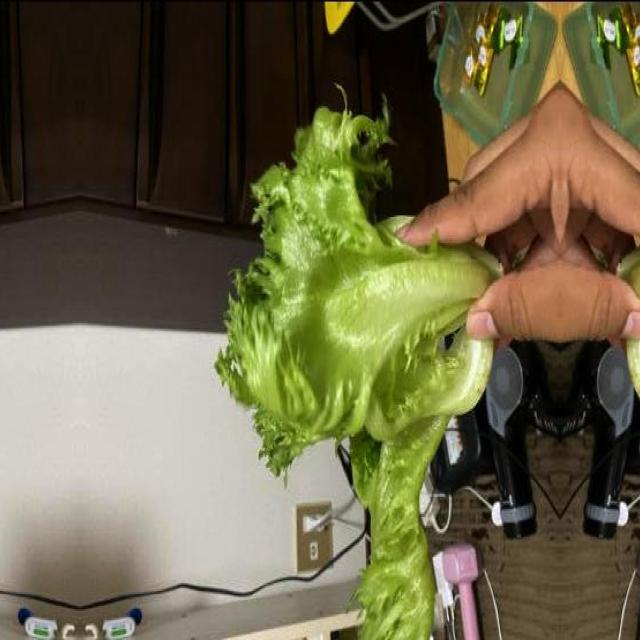healthy: (217, 90, 507, 640), (613, 90, 640, 639)
